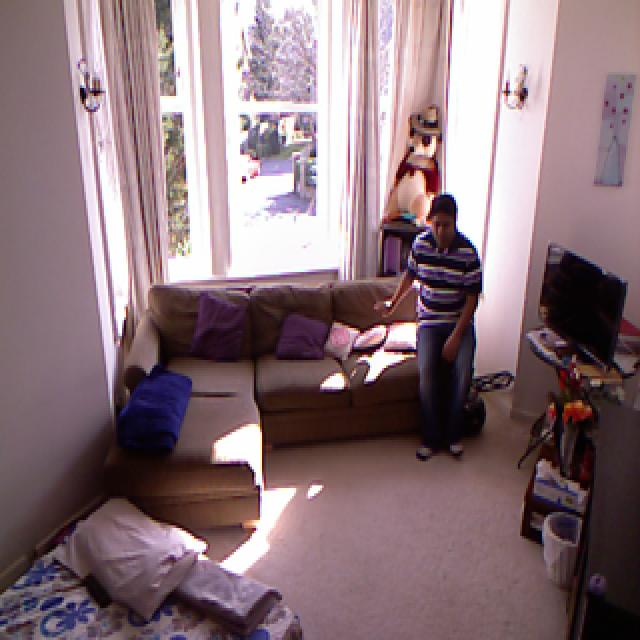sitting: (384, 205, 494, 465)
